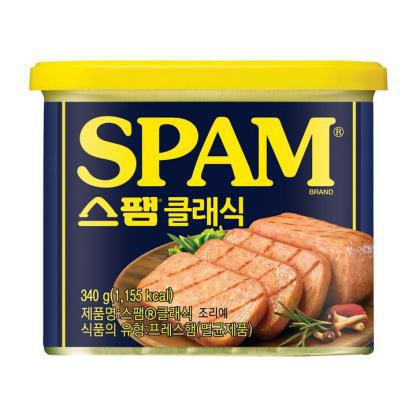spam: (27, 53, 386, 362)
